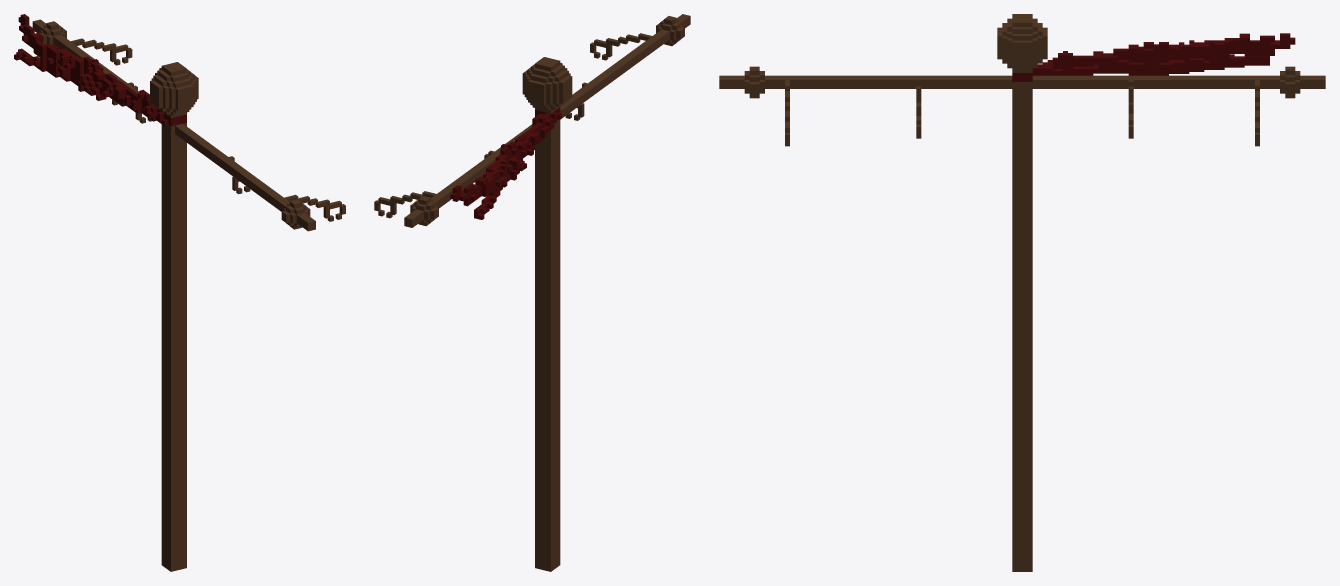
The model's file is ship-3.obj.
3 views of the same model, side by side, from view 1: azimuth 30°, elevation 25°; view 2: azimuth 150°, elevation 25°; view 3: azimuth 270°, elevation 25° (orthographic). The views are drawn at different scales.
Bounding box in the file's own units: 2.8 × 12 × 12.
1 material, 1 textured.
